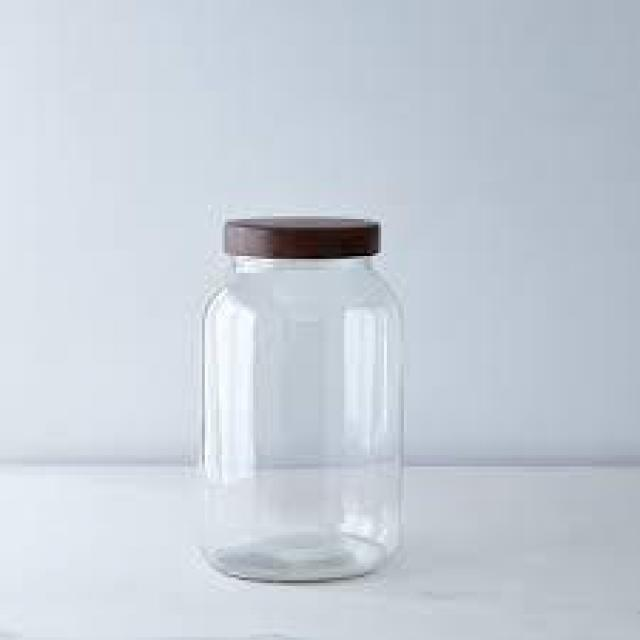non-organic waste: (198, 209, 408, 587)
